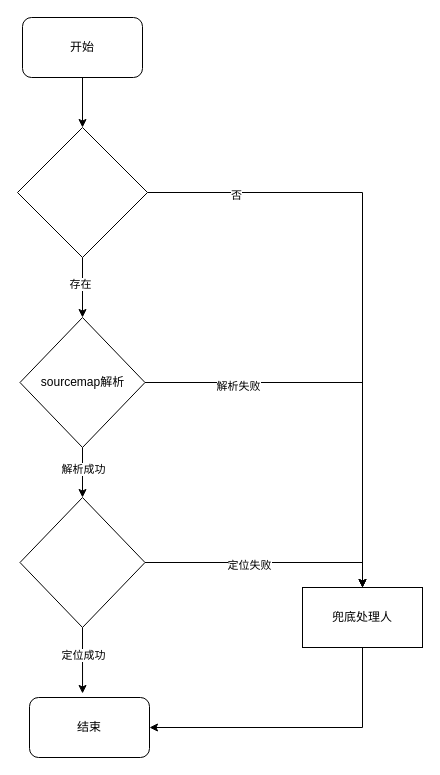
Some shapes in this 440 by 775 pixel diagram are drawn without their labels. Each missing label, with the centre of its shape:
"GithubAPI定位" belongs at [82,562].
"sourcemap存在" belongs at [82,192].
